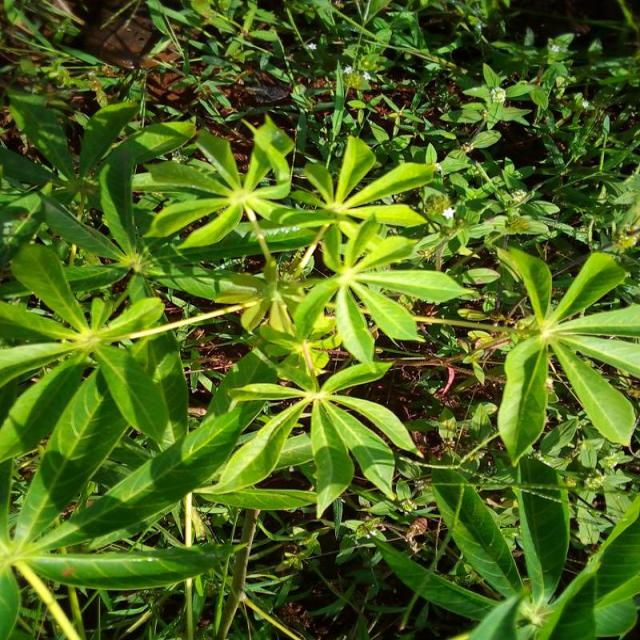cassava leaf: (492, 242, 638, 466)
